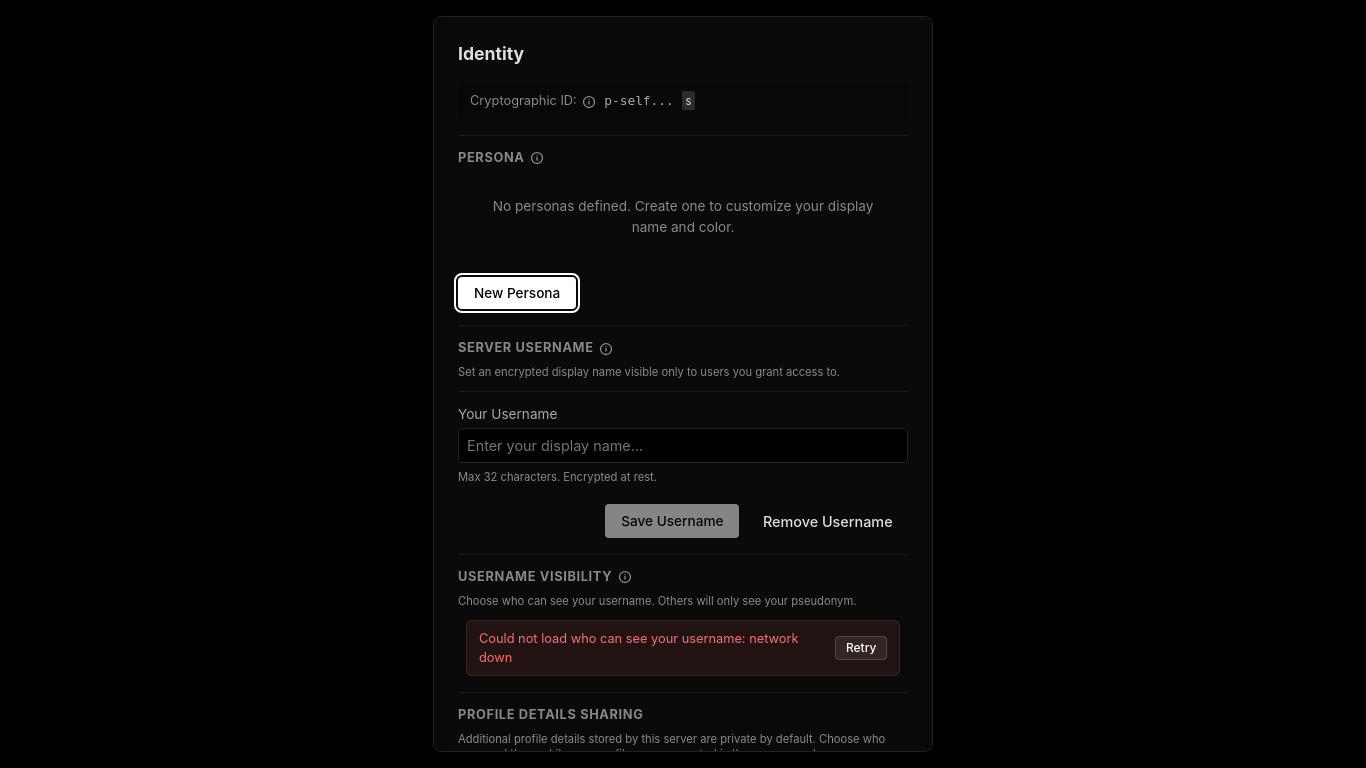
Scenario: username visibility — a failed load is not an answer › retrying the grant list recovers the real state
expect the text "Could not load who can see your username: network down" is shown: met, box [479, 629, 827, 667]
Click the button "Retry".
click(861, 648)  # box [835, 636, 887, 660]
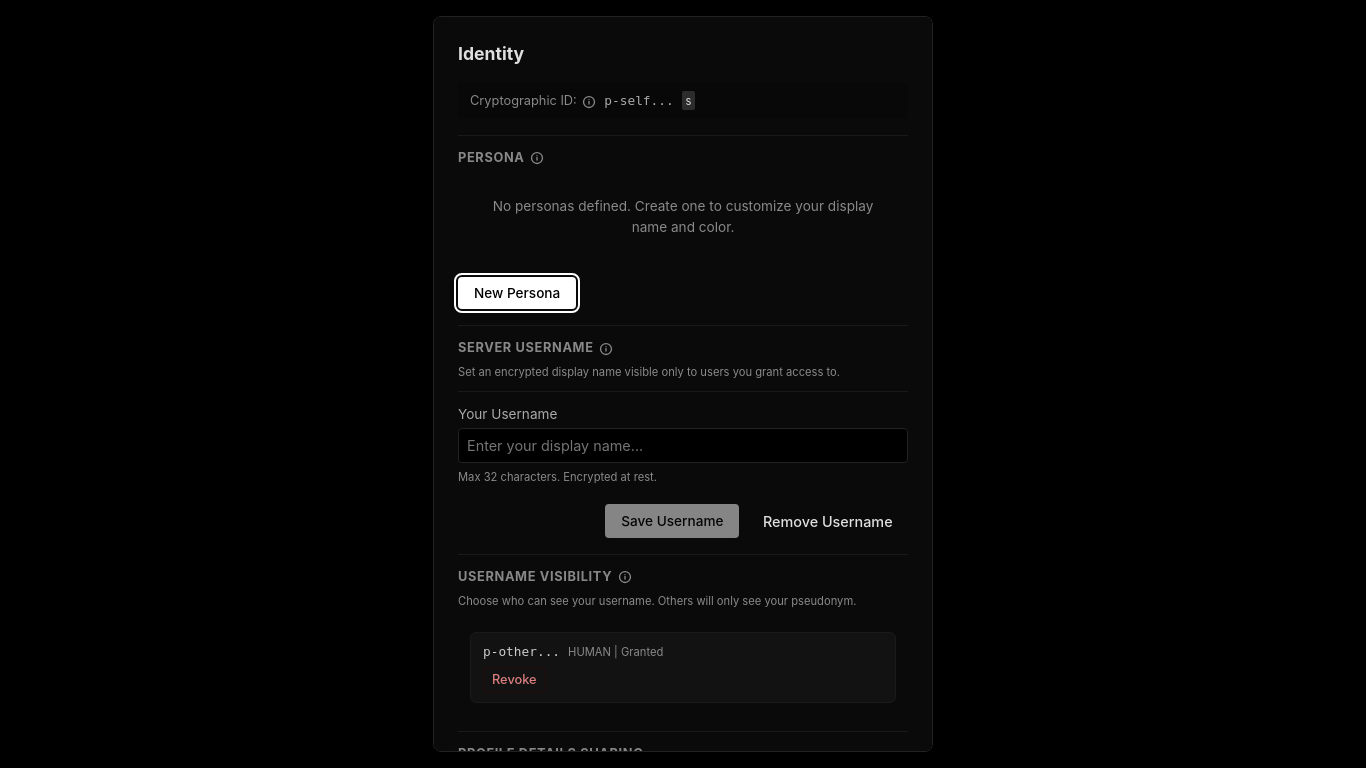
expect the button "Revoke" is shown: met, box [483, 667, 546, 692]
